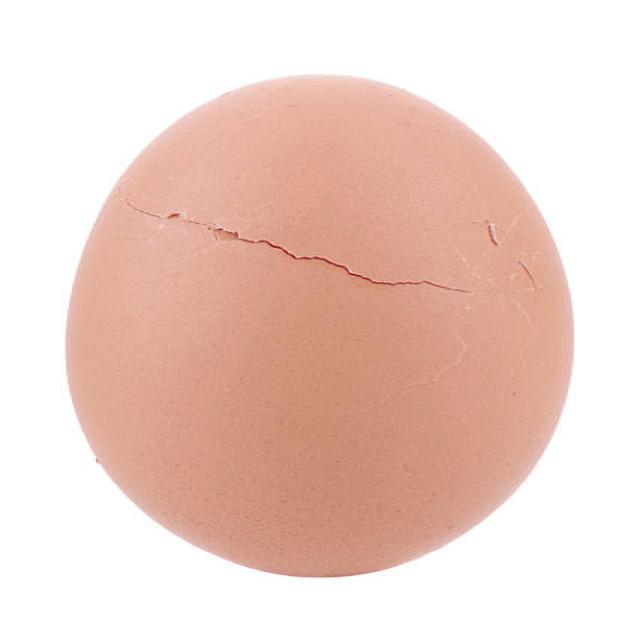Crack: (97, 175, 564, 324)
Egg: (54, 45, 596, 594)
